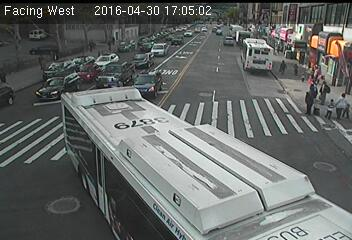neg: (310, 154, 333, 185), (27, 122, 43, 144), (266, 119, 281, 139), (153, 71, 167, 90), (149, 37, 162, 55), (95, 74, 108, 92), (227, 32, 239, 47), (195, 87, 207, 102), (268, 37, 279, 52), (251, 58, 262, 72), (216, 27, 224, 38), (185, 27, 193, 38)
pos: (300, 84, 324, 116), (314, 79, 334, 106), (326, 97, 342, 119), (275, 57, 291, 78), (33, 54, 48, 73), (290, 61, 303, 78), (50, 52, 62, 68), (104, 39, 115, 54)
